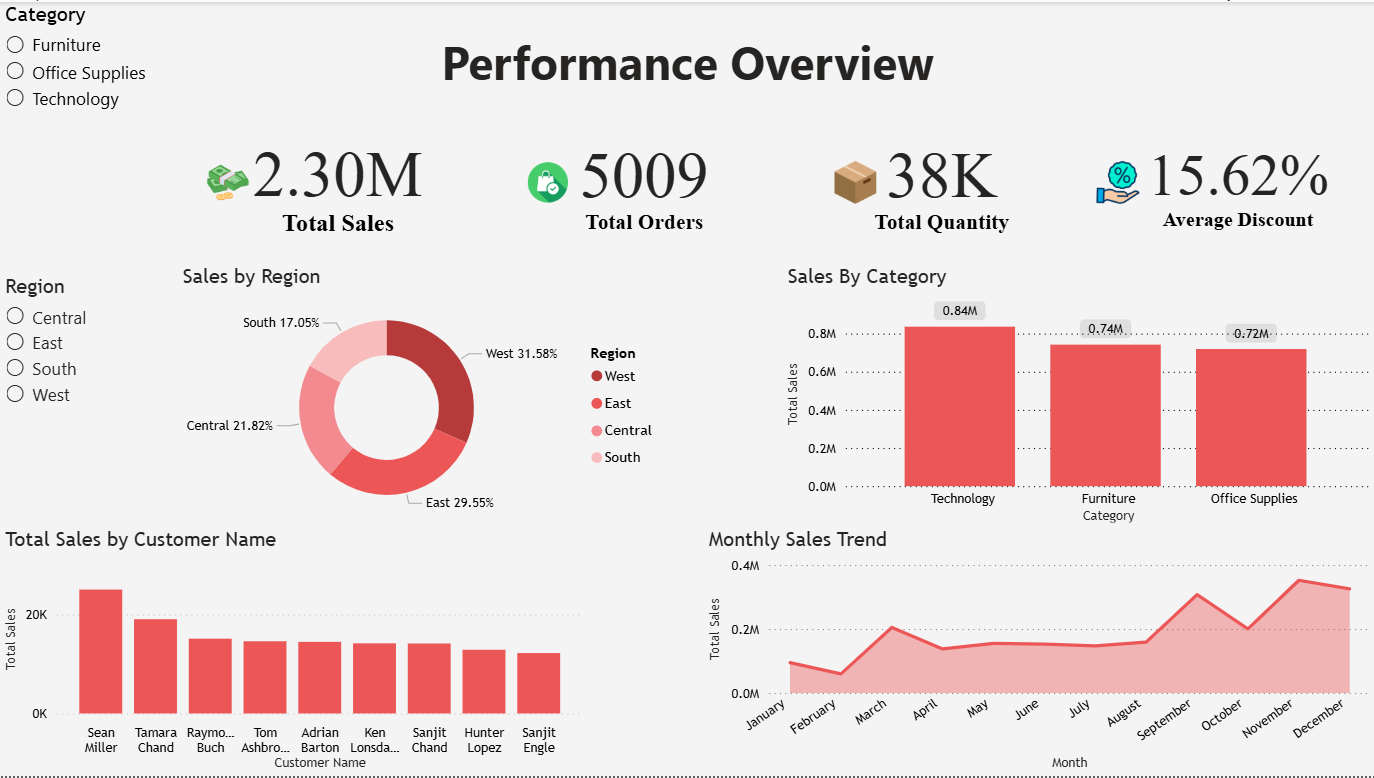

The page's visual inventory and layout, read from the dashboard file:
{"tool":"powerbi","page":{"name":"Performance Overview","canvas":[1280,720],"ordinal":0},"visuals":[{"type":"card","fields":{"Values":["Sample - Superstore.Total Orders"]},"box":[472.5,101.3,255,131.2],"z":0},{"type":"card","fields":{"Values":["Sample - Superstore.Total Sales"]},"box":[187.5,101.3,255,131.2],"z":1000},{"type":"card","fields":{"Values":["Sample - Superstore.Total Quantity"]},"box":[748.8,101.3,255,131.2],"z":2000},{"type":"card","fields":{"Values":["Sample - Superstore.Average Discount"]},"box":[1025,101.4,255,131],"z":3000},{"type":"clusteredColumnChart","title":"Sales By Category","fields":{"Category":["Sample - Superstore.Category"],"Y":["Sample - Superstore.Total Sales"]},"box":[727.5,243.8,552.5,245],"z":4000},{"type":"lineChart","title":"Monthly Sales Trend","fields":{"Y":["Sample - Superstore.Total Sales"],"Category":["Sample - Superstore.Order Date.Variation.Date Hierarchy.Month"]},"box":[655,488.8,625,231.2],"z":5000},{"type":"columnChart","title":"Total Sales by Customer Name","fields":{"Category":["Sample - Superstore.Customer Name"],"Y":["Sample - Superstore.Total Sales"]},"box":[0,488.8,547.5,231.2],"z":6000},{"type":"donutChart","title":"Sales by Region","fields":{"Category":["Sample - Superstore.Region"],"Y":["Sum(Sample - Superstore.Sales)"]},"box":[165,243.8,456.2,245],"z":7000},{"type":"textbox","box":[396.9,20.5,486.2,71.2],"z":8000},{"type":"listSlicer","fields":{"Values":["Sample - Superstore.Region"]},"box":[0,253.8,165,225],"z":9000},{"type":"listSlicer","fields":{"Values":["Sample - Superstore.Category"]},"box":[0,0,165,237.5],"z":10000},{"type":"image","box":[187.5,142.5,50,50],"z":11000},{"type":"image","box":[485,142.5,50,50],"z":12000},{"type":"image","box":[771.2,142.5,50,50],"z":13000},{"type":"image","box":[1015,142.5,50,50],"z":14000}]}

Visuals, with their boxes in screenshot pixels (x1, y1, x2, y2), scaled from the page's 1280x720 canvas onto the 1374x778 screenshot:
card - Sample - Superstore.Total Orders: (left=507, top=109, right=781, bottom=251)
card - Sample - Superstore.Total Sales: (left=201, top=109, right=475, bottom=251)
card - Sample - Superstore.Total Quantity: (left=804, top=109, right=1078, bottom=251)
card - Sample - Superstore.Average Discount: (left=1100, top=110, right=1373, bottom=251)
"Sales By Category" clusteredColumnChart: (left=781, top=263, right=1373, bottom=528)
"Monthly Sales Trend" lineChart: (left=703, top=528, right=1373, bottom=777)
"Total Sales by Customer Name" columnChart: (left=0, top=528, right=588, bottom=777)
"Sales by Region" donutChart: (left=177, top=263, right=667, bottom=528)
textbox: (left=426, top=22, right=948, bottom=99)
listSlicer - Sample - Superstore.Region: (left=0, top=274, right=177, bottom=517)
listSlicer - Sample - Superstore.Category: (left=0, top=0, right=177, bottom=257)
image: (left=201, top=154, right=255, bottom=208)
image: (left=521, top=154, right=574, bottom=208)
image: (left=828, top=154, right=882, bottom=208)
image: (left=1090, top=154, right=1143, bottom=208)
